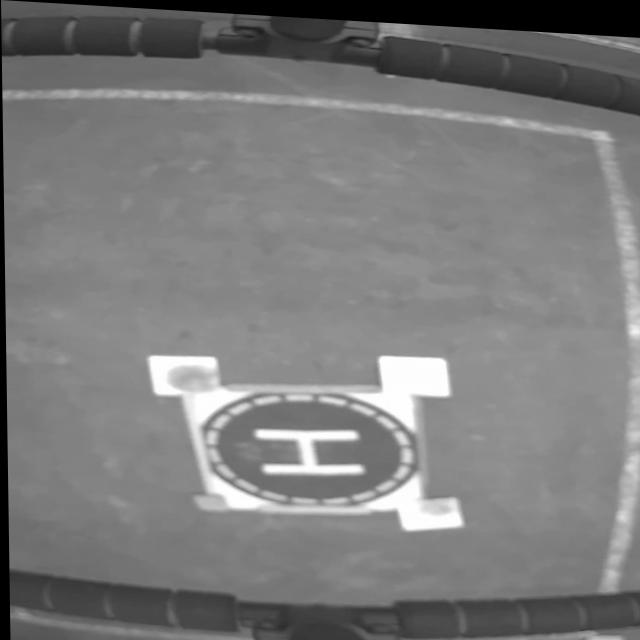Helipad: (251, 425, 362, 471)
